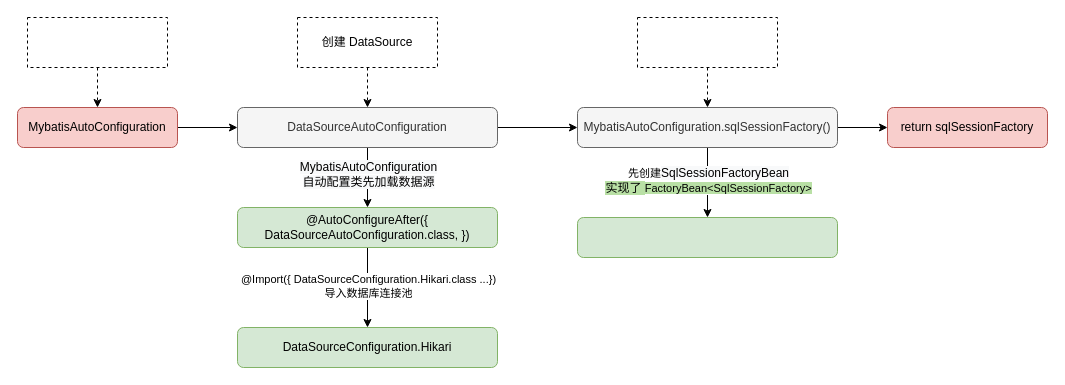
The diagram is 1065 pixels wide and 385 high, and some of its shapes have lost their labels. Each missing label, with the box of its shape:
new SqlSessionFactoryBean(): (576, 216, 838, 258)
Springboot自动配置 Mybatis 自动配置入口: (26, 16, 168, 68)
创建 sqlSessionFactory: (636, 16, 778, 68)
